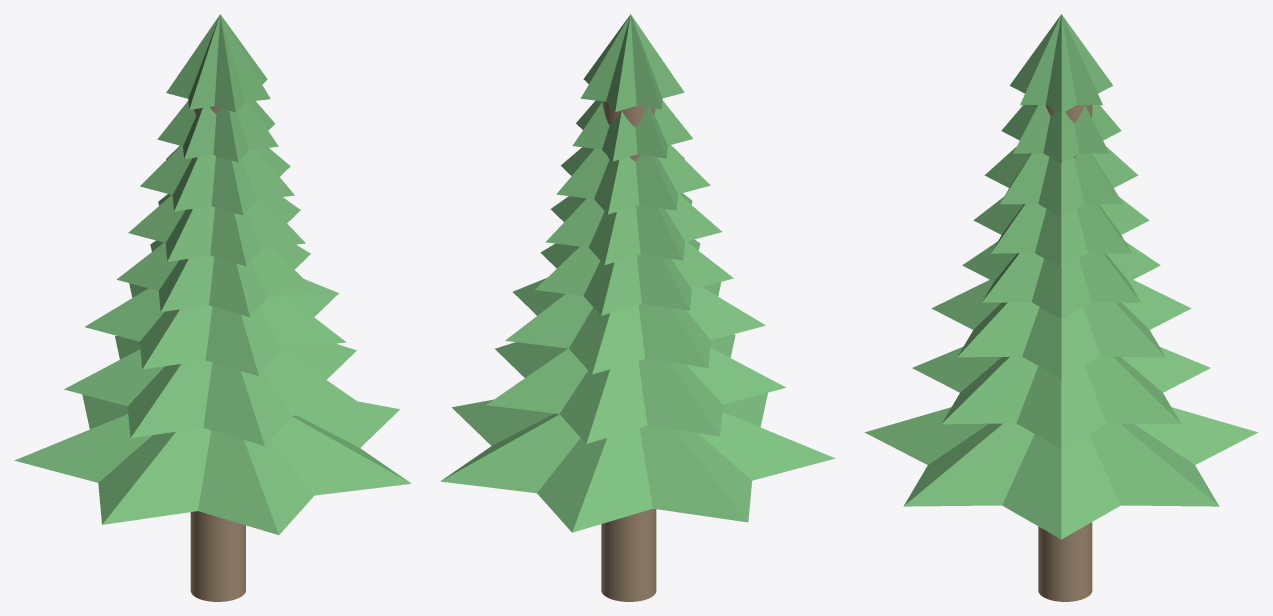
File: Tree.glb
The picture shows the model from 3 angles, left to right: view 1: azimuth 30°, elevation 25°; view 2: azimuth 150°, elevation 25°; view 3: azimuth 270°, elevation 25°; orthographic projection.
Visible parts, largest first — view 1: Mesh_Mesh_head_geo.001_lambert2SG.001; view 2: Mesh_Mesh_head_geo.001_lambert2SG.001; view 3: Mesh_Mesh_head_geo.001_lambert2SG.001.
Boxes of the visible parts, box(x1,y1,x2,y2) form: Mesh_Mesh_head_geo.001_lambert2SG.001: box(14, 14, 411, 601); Mesh_Mesh_head_geo.001_lambert2SG.001: box(440, 14, 835, 601); Mesh_Mesh_head_geo.001_lambert2SG.001: box(864, 14, 1258, 601).
Size of the model in its own units: 0.062 by 0.1 by 0.062.
